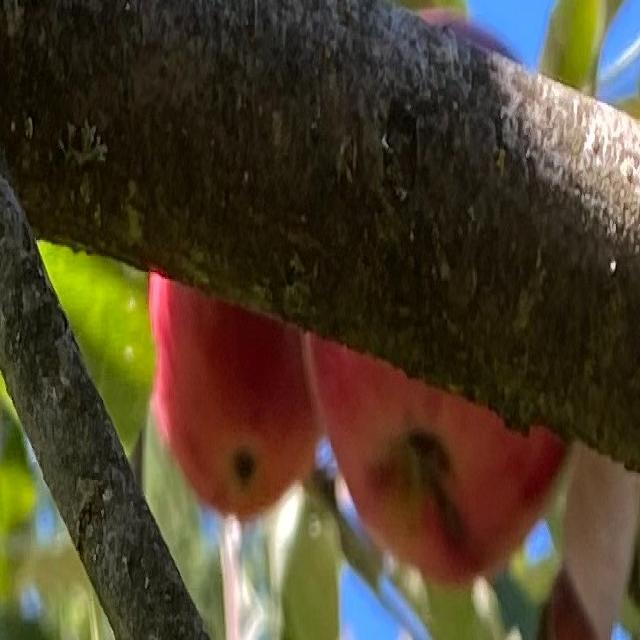100-_ripeness: (309, 330, 575, 586), (149, 272, 323, 517)
